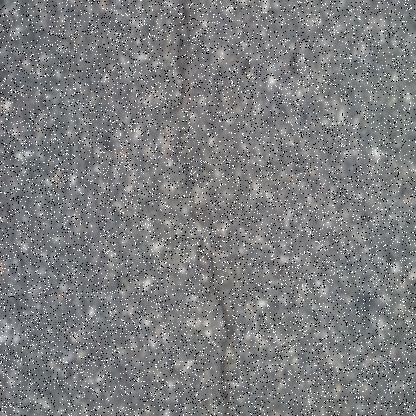Cracks: (171, 0, 236, 416)
